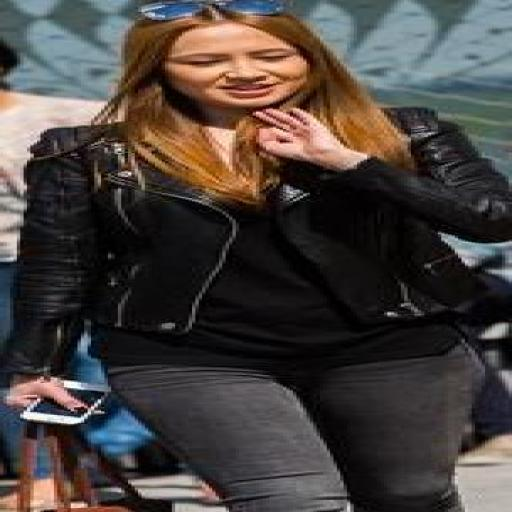person: (4, 0, 511, 511), (0, 40, 101, 351)
